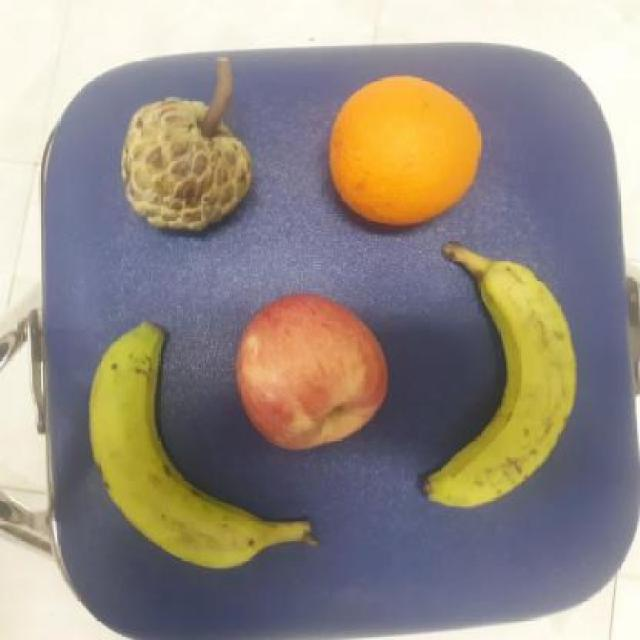apple: (233, 288, 393, 452)
banana: (88, 318, 315, 570), (422, 243, 581, 512)
oren: (326, 72, 486, 230)
sugar apple: (120, 95, 255, 238)
